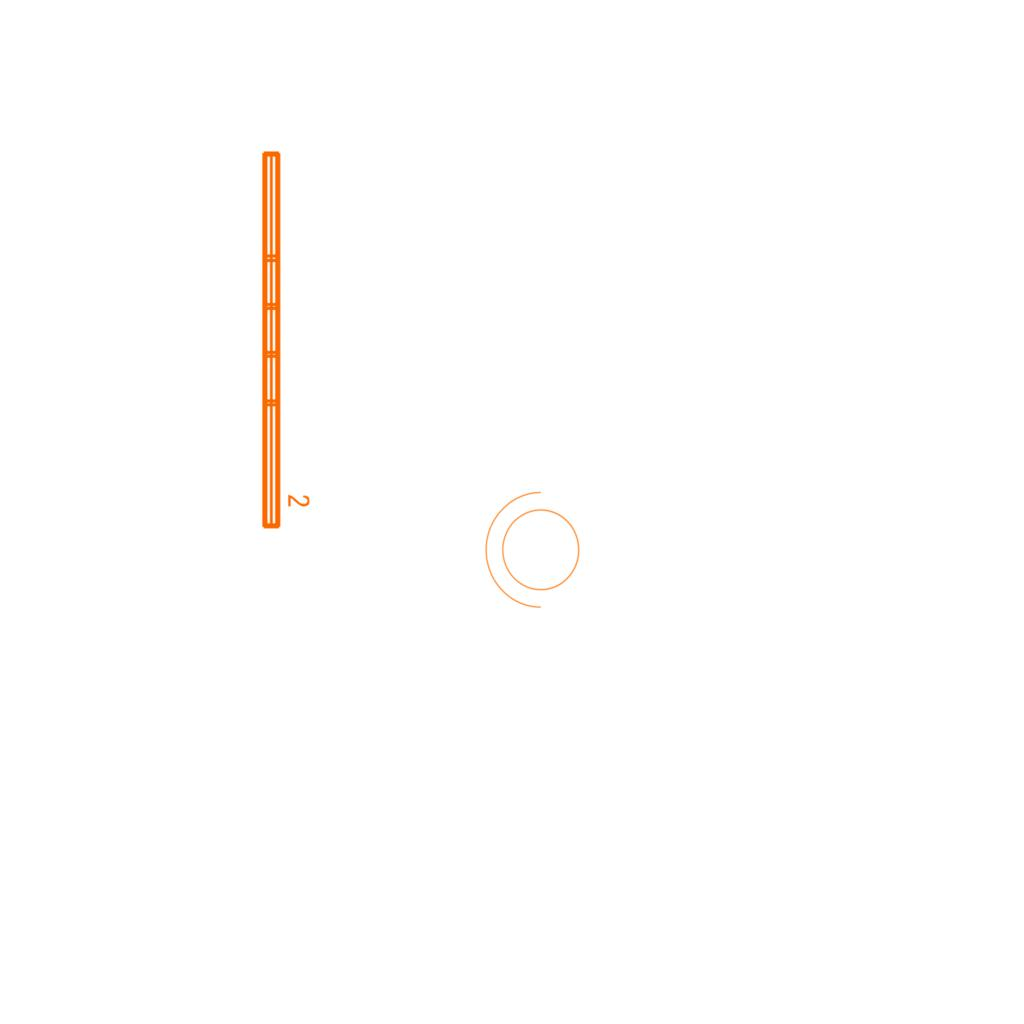Ambulanz_Pendelleuchte_LED: (256, 146, 312, 533)
Scheinwerfer_fuer_Alarmbeleuchtung: (480, 487, 592, 619)
